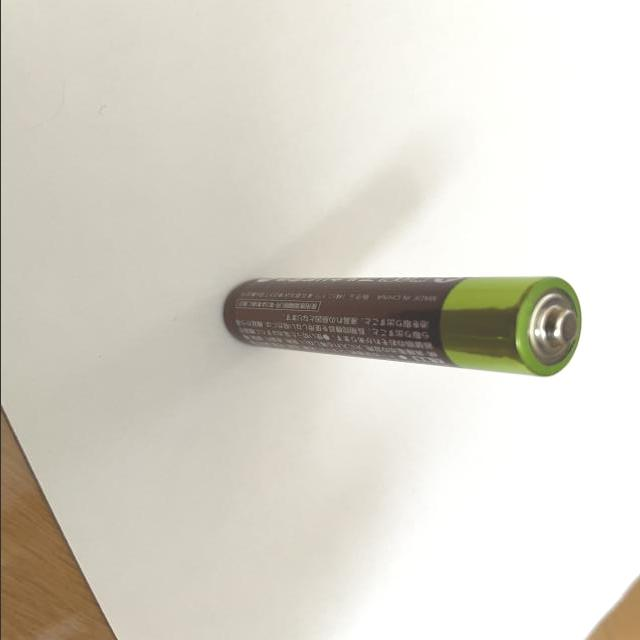AAA: (222, 273, 583, 377)
